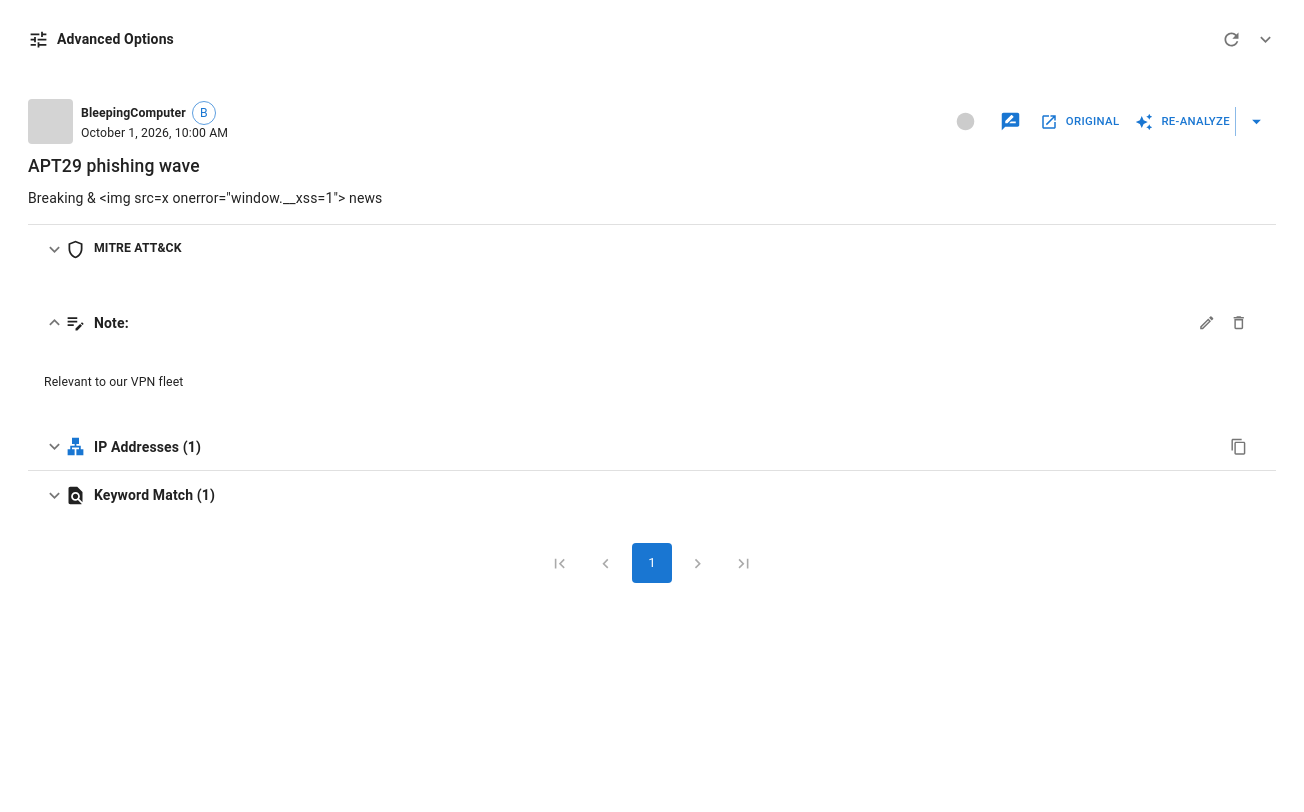
Test: Feed › editing a note opens the editor; save persists, cancel leaves edit mode
The width and height of the screenshot is (1304, 812).
Expected: the text "Relevant to our VPN fleet" is shown, [44,374,183,388]
Click the button named "Edit Note" next to "Original". click: (1010,122)
box: [992,103,1029,140]
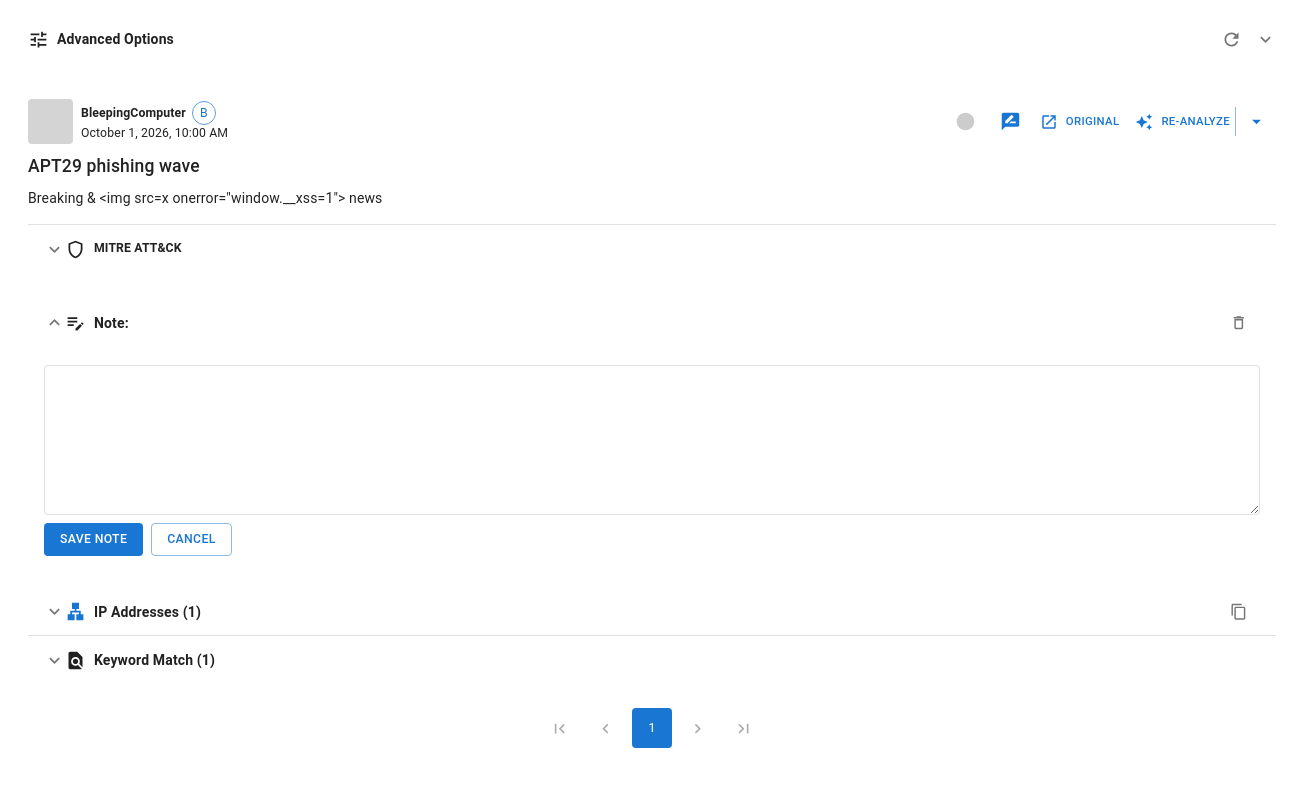
Click the button "Save Note". click: (94,539)
box: [44,522,143,556]
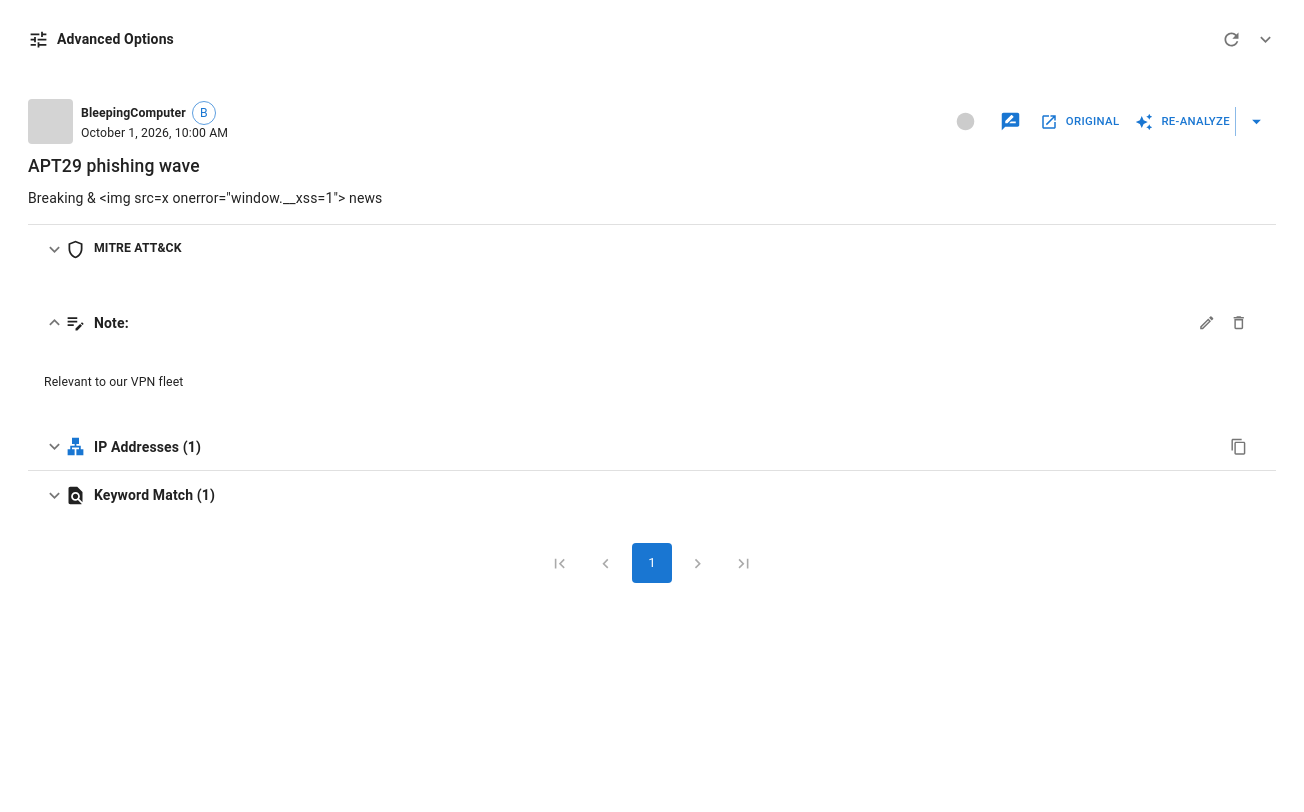
Now the button "Save Note" is gone
Click the button named "Edit Note" next to "Original". click: (1010,122)
box: [992,103,1029,140]
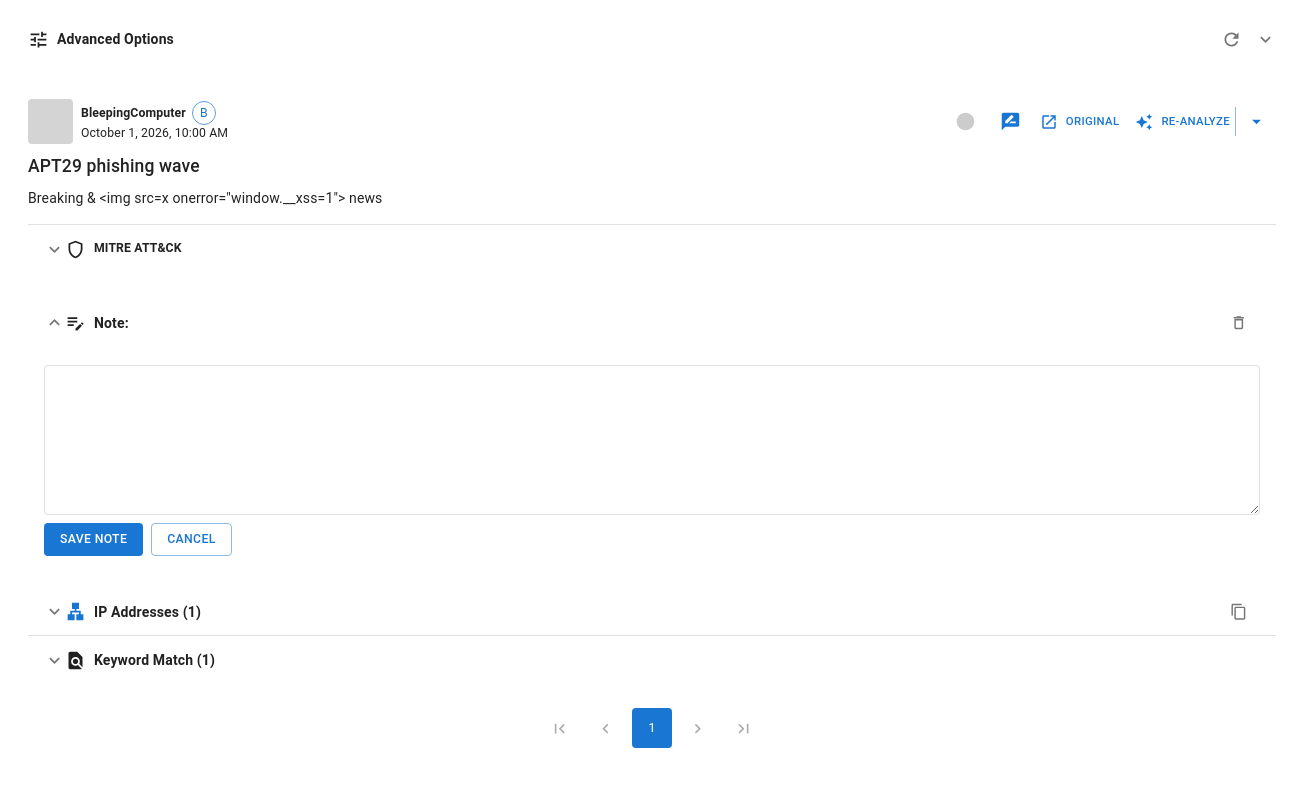
Click the button "Cancel". click: (191,539)
box: [151,522,232,556]
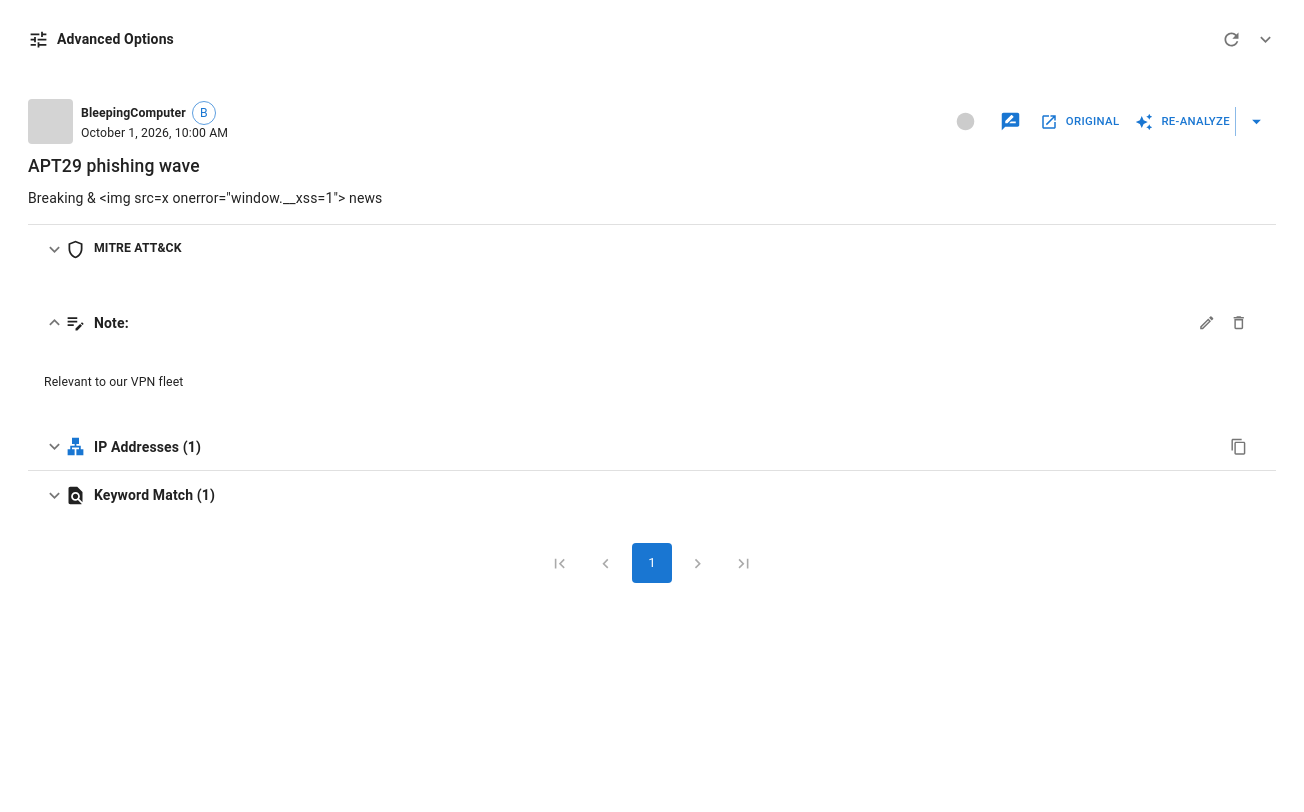
Now the button "Save Note" is gone
